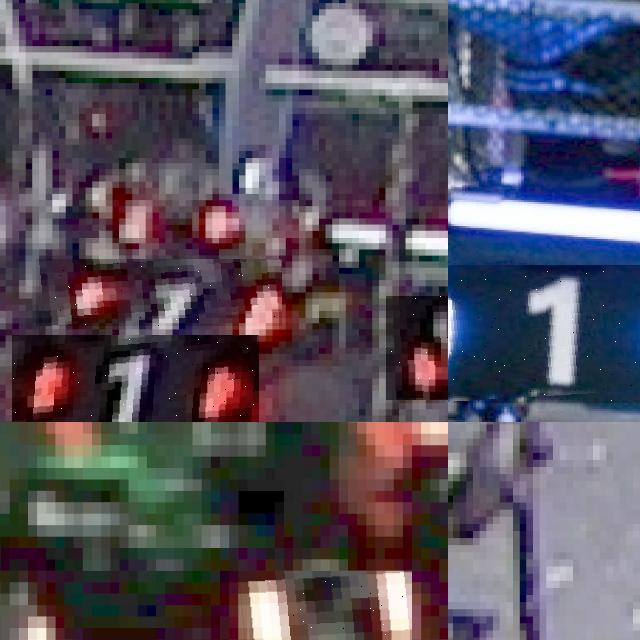B1: (448, 264, 640, 403)
R1: (12, 335, 258, 422), (36, 259, 282, 326), (385, 295, 448, 400)
Rs: (238, 571, 411, 640)
